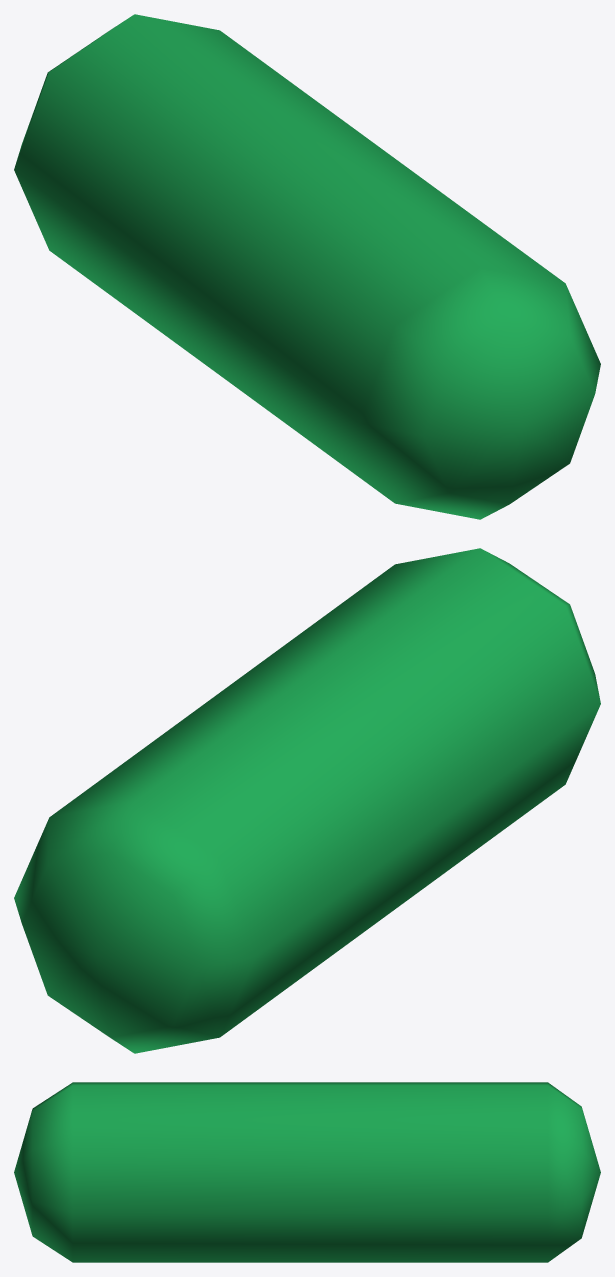
Rendered from AcidPlaceholder.fbx.
The picture shows the model from 3 angles, top to bottom: view 1: azimuth 30°, elevation 25°; view 2: azimuth 150°, elevation 25°; view 3: azimuth 270°, elevation 25°; orthographic projection. The views are drawn at different scales.
Parts seen in each view (by area): view 1: pCylinder1; view 2: pCylinder1; view 3: pCylinder1.
Part boxes in pixels (box(x1,y1,x2,y2)): pCylinder1: box(14, 14, 600, 519); pCylinder1: box(14, 548, 600, 1053); pCylinder1: box(14, 1082, 600, 1262).
Bounding box in the file's own units: 0.1553 × 0.1553 × 0.4758.
